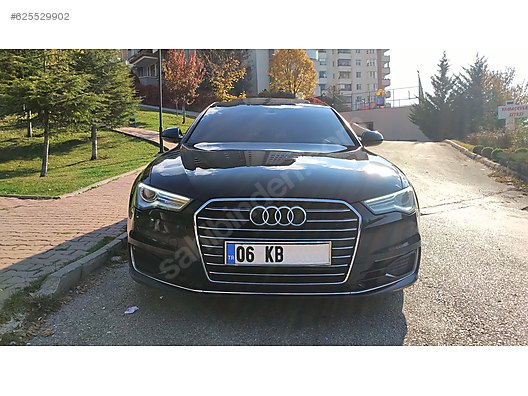audi: (245, 203, 314, 231)
